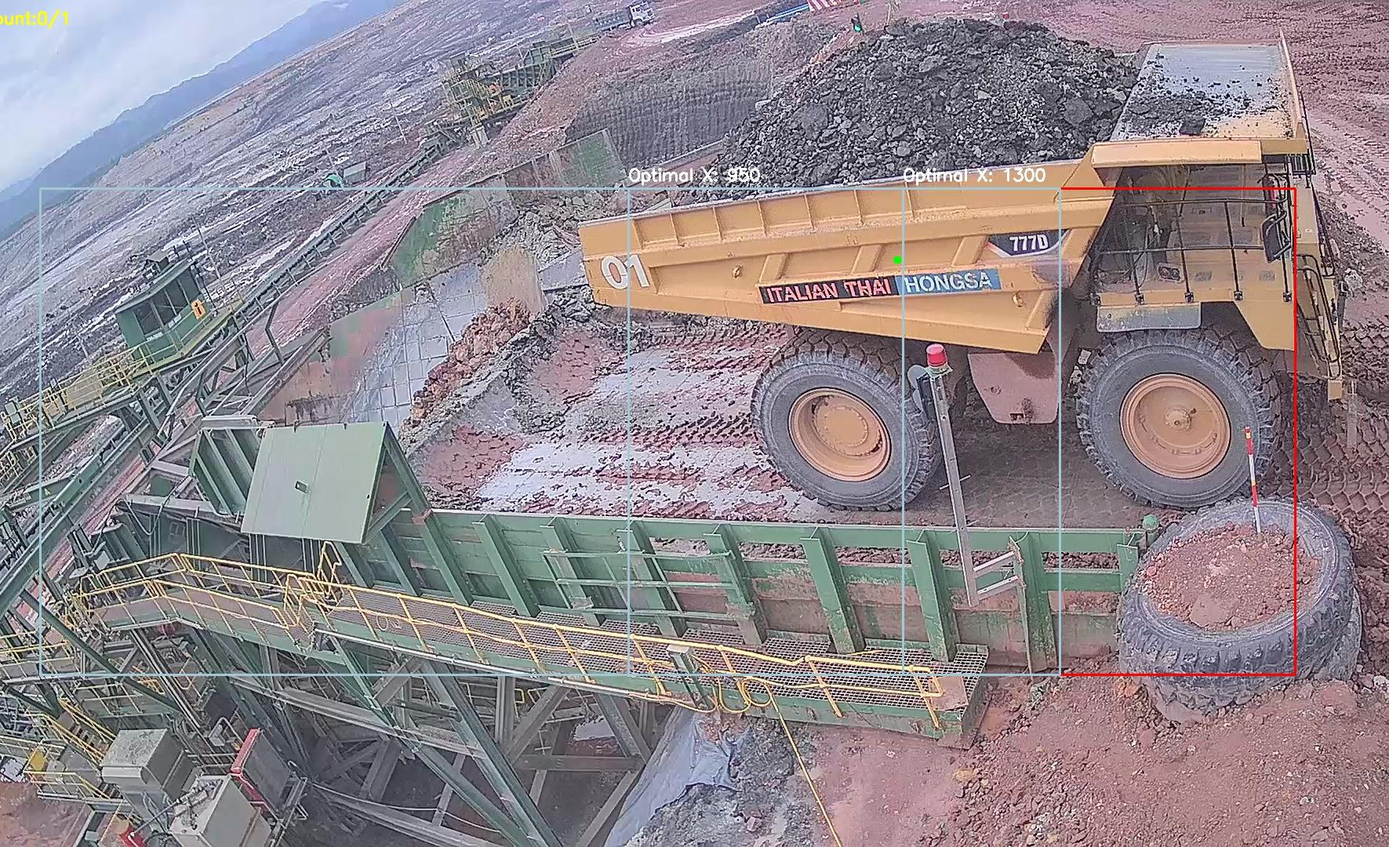company: (751, 262, 1015, 306)
full_load: (756, 16, 1118, 194)
mining_truck: (573, 8, 1357, 522)
tail_number: (596, 245, 655, 300)
truck_size: (994, 223, 1055, 260)
